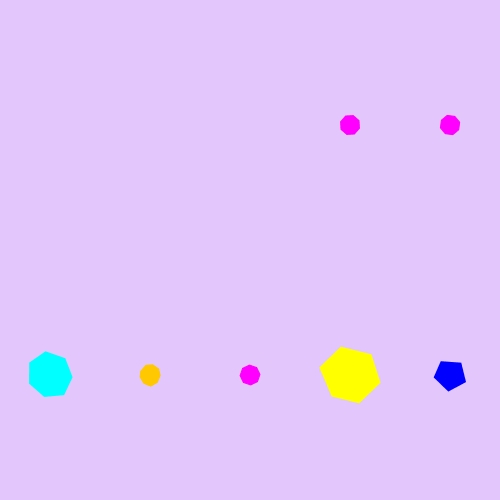heptagon: (23, 350, 77, 401)
hexagon: (316, 347, 385, 404)
nonagon: (135, 361, 166, 390)
octagon: (335, 110, 365, 140), (435, 110, 465, 140), (235, 360, 265, 390)
pentagon: (431, 356, 470, 395)
